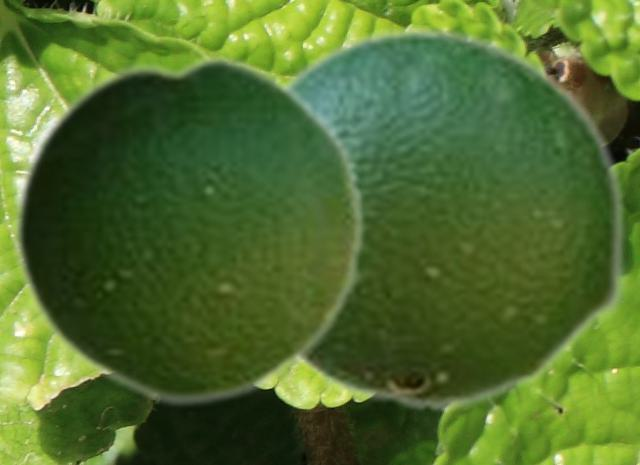dalandan: (283, 25, 627, 413), (10, 49, 366, 409)
